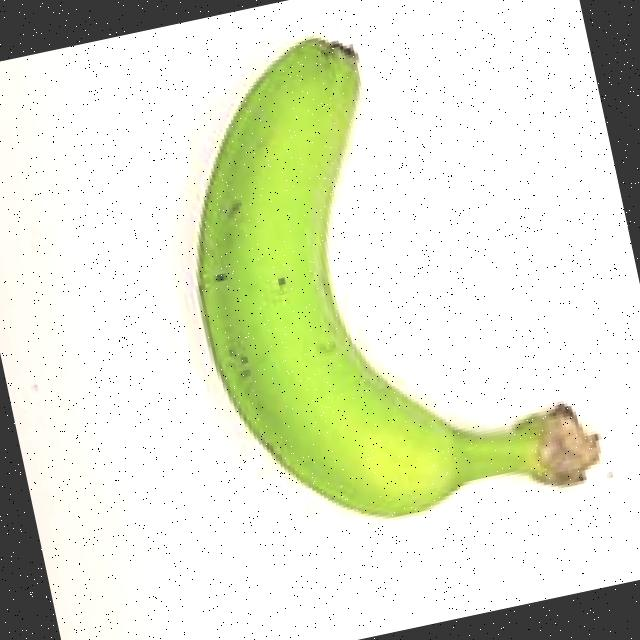Unripe: (72, 0, 635, 597)
